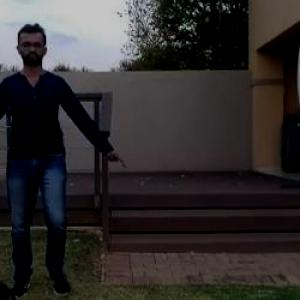land: (0, 40, 113, 283)
